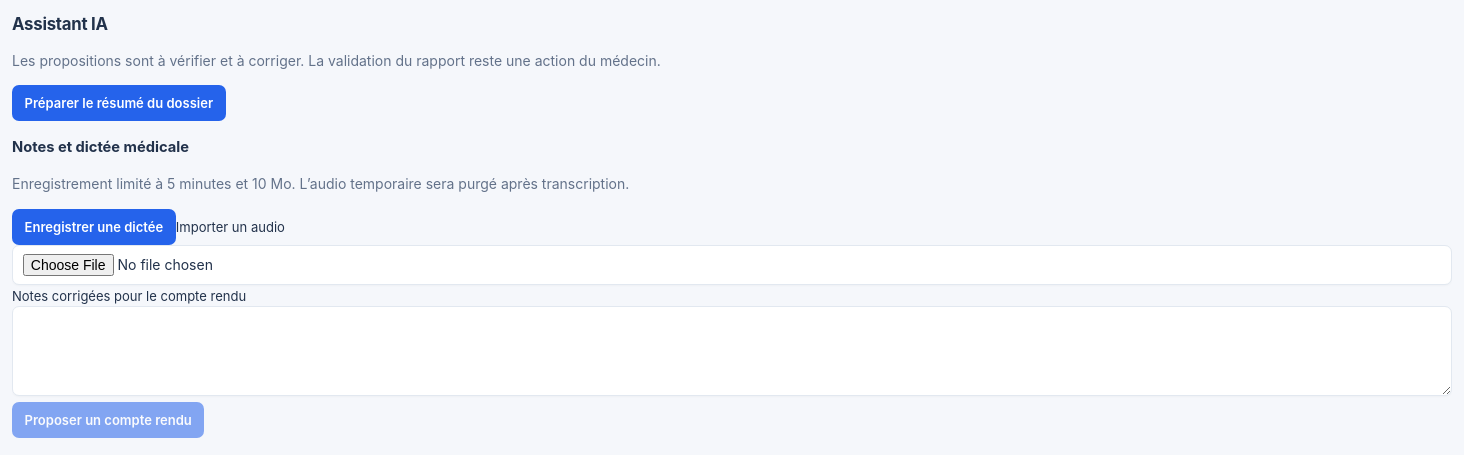
releases microphone tracks when leaving the consultation and sends no audio automatically
Click the button "Enregistrer une dictée" at (94, 227), box [12,209,176,245]
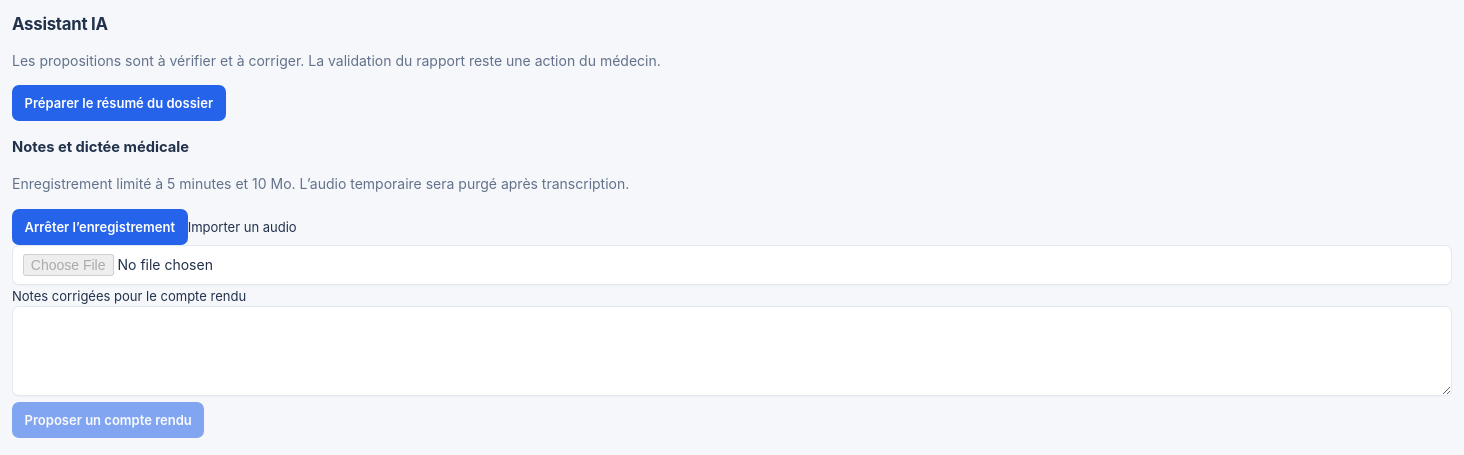
Now the button "Arrêter l’enregistrement" is shown, box [12,209,188,245]
